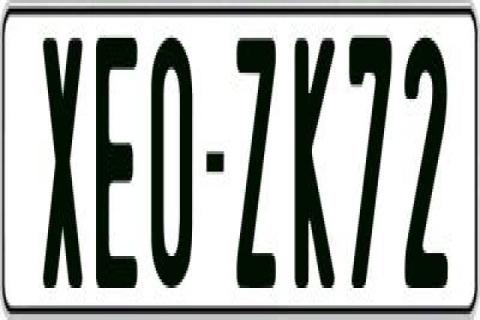0: (349, 35, 398, 285), (404, 38, 448, 291), (148, 38, 192, 288)
E: (96, 38, 142, 306)
K: (294, 32, 336, 294)
X: (44, 29, 90, 282)
Z: (233, 35, 273, 303)
